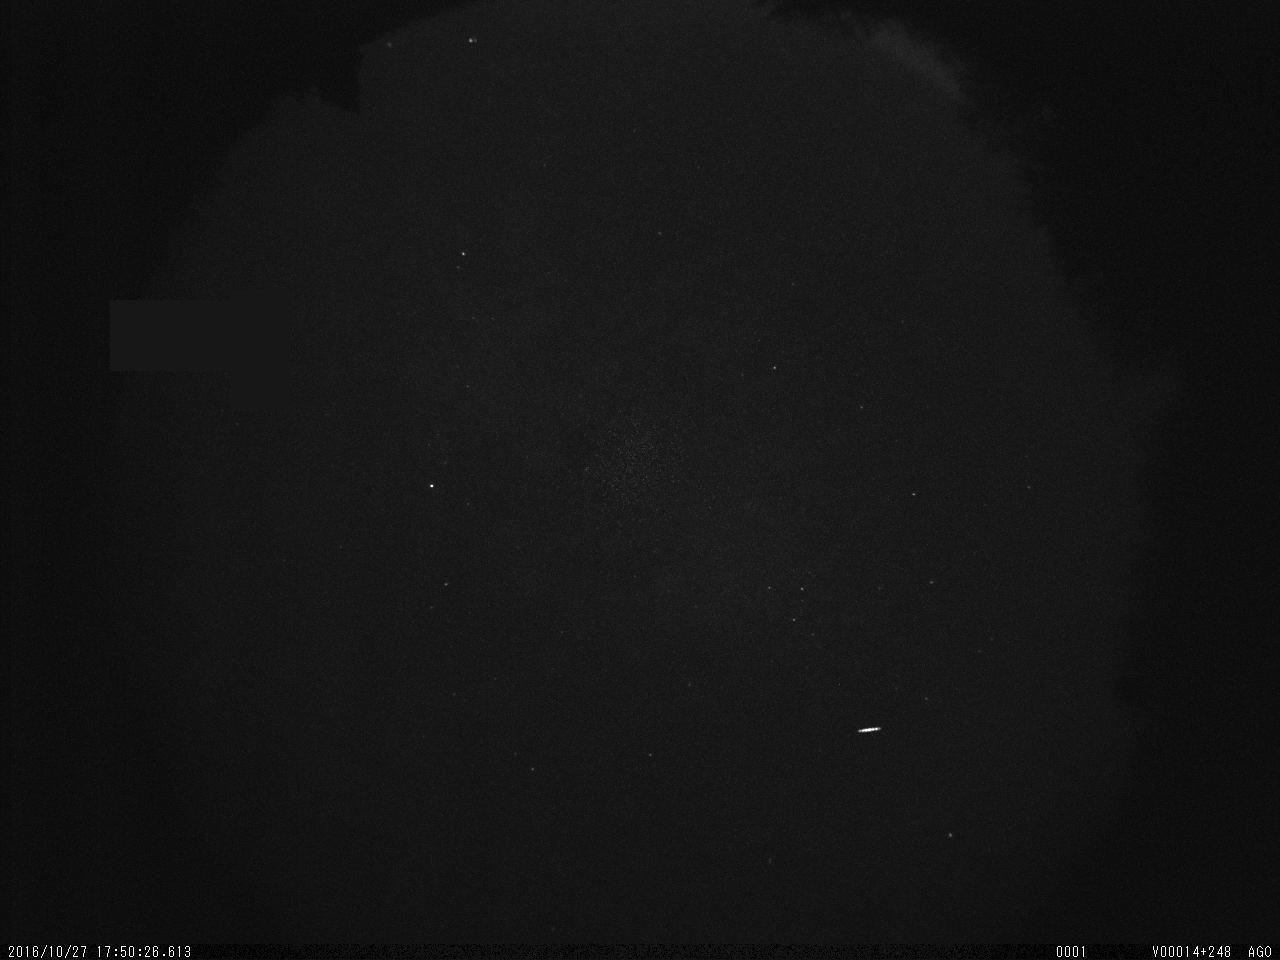meteor: (854, 720, 888, 740)
